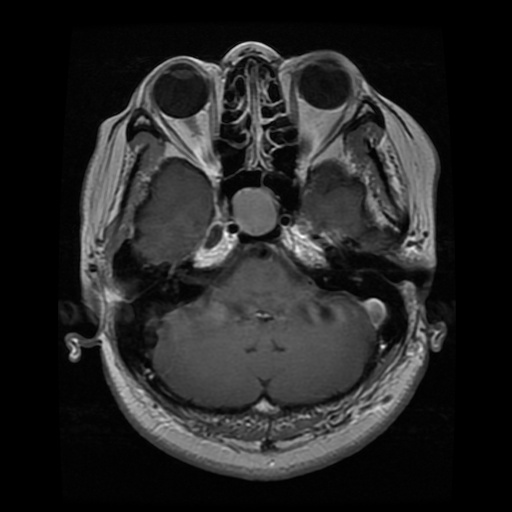pituitary: (231, 187, 277, 235)
